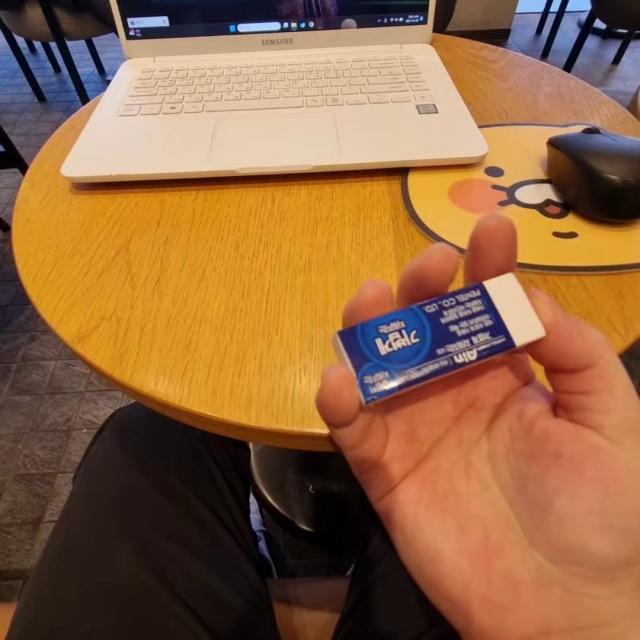eraser: (335, 286, 555, 396)
grab_eraser: (316, 208, 640, 622)
mouse: (548, 119, 640, 228)
